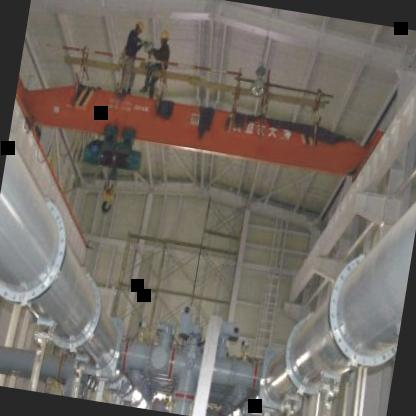helmet: (157, 26, 171, 50), (132, 16, 146, 36)
